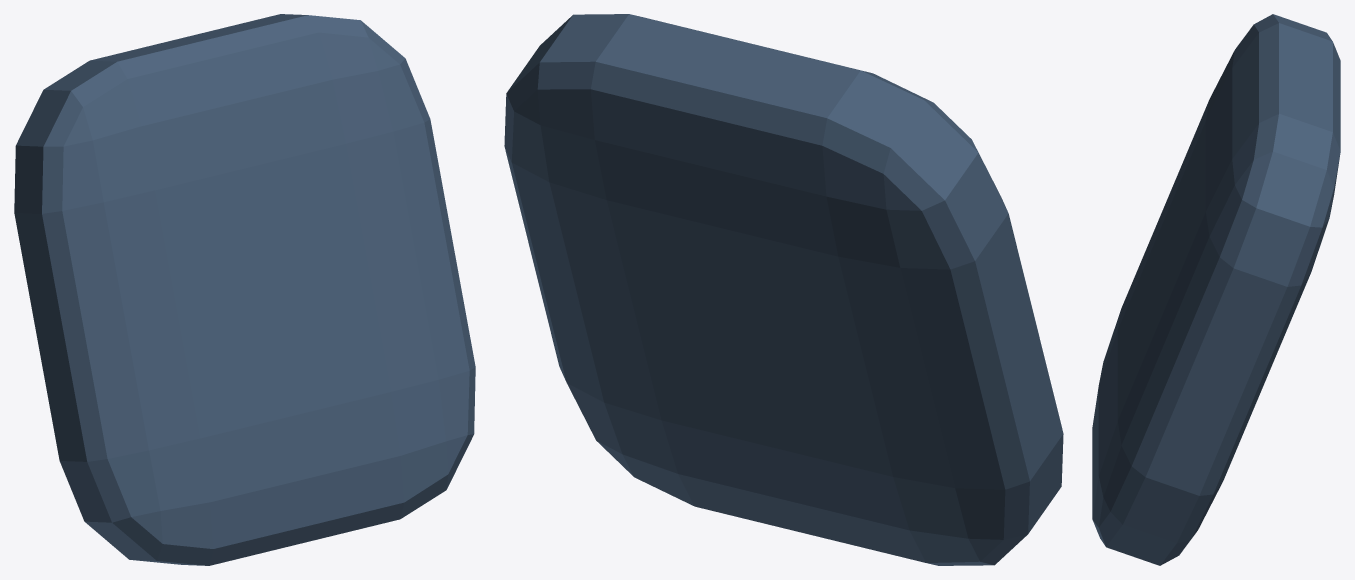
The model's file is chair_cushion_back_01.fbx.
3 views of the same model, side by side, from view 1: azimuth 30°, elevation 25°; view 2: azimuth 150°, elevation 25°; view 3: azimuth 270°, elevation 25° (orthographic). The views are drawn at different scales.
Visible parts, largest first — view 1: Cube.015; view 2: Cube.015; view 3: Cube.015.
Boxes of the visible parts, <box> form: Cube.015: <box>14,14,475,565</box>; Cube.015: <box>504,14,1063,565</box>; Cube.015: <box>1092,14,1340,565</box>.
Size of the model in its own units: 49.87 by 55.95 by 28.41.
